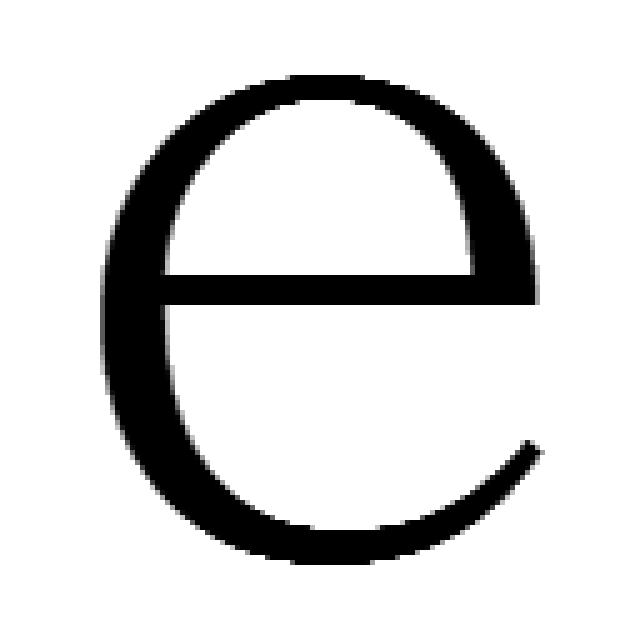E: (100, 75, 545, 565)
